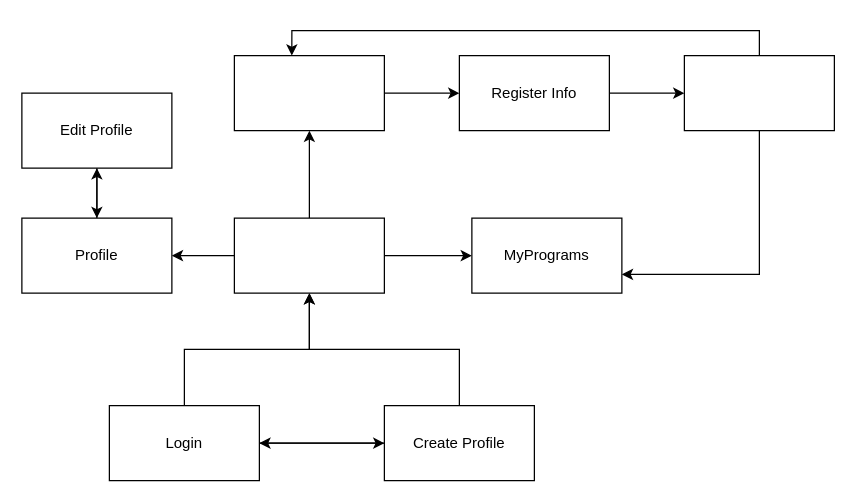
The diagram is 856 pixels wide and 503 high, and some of its shapes have lost their labels. Each missing label, with the centre of its shape:
Home: (x=308, y=255)
Register Confirmation: (x=758, y=92)
Search Programs: (x=308, y=92)
